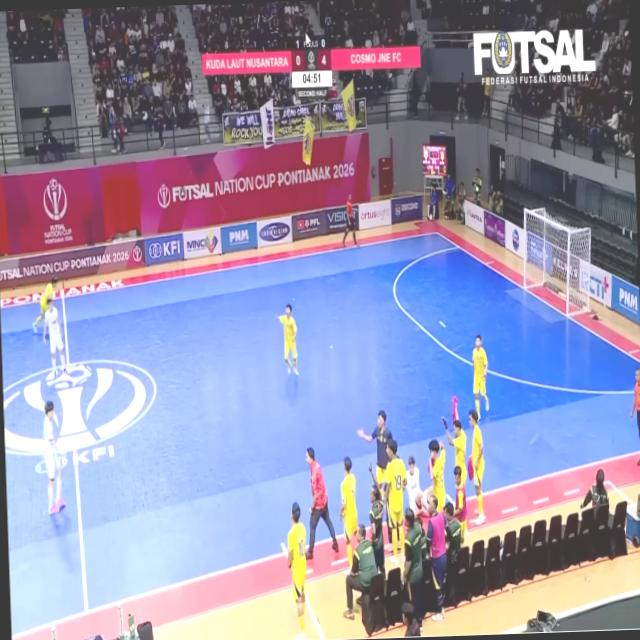keeper: (358, 410, 392, 492)
official: (306, 448, 339, 559), (344, 524, 378, 619), (426, 496, 447, 622), (403, 508, 424, 626), (581, 469, 609, 509)
players: (357, 410, 392, 497), (41, 399, 65, 514), (386, 438, 407, 565), (288, 502, 306, 639), (340, 457, 358, 574), (443, 396, 467, 483), (470, 410, 485, 524), (44, 297, 66, 373), (276, 304, 298, 375), (370, 485, 385, 578), (33, 277, 57, 332), (473, 335, 489, 417), (429, 440, 446, 512), (452, 466, 467, 543), (407, 456, 421, 511)
referee: (631, 369, 639, 434)
